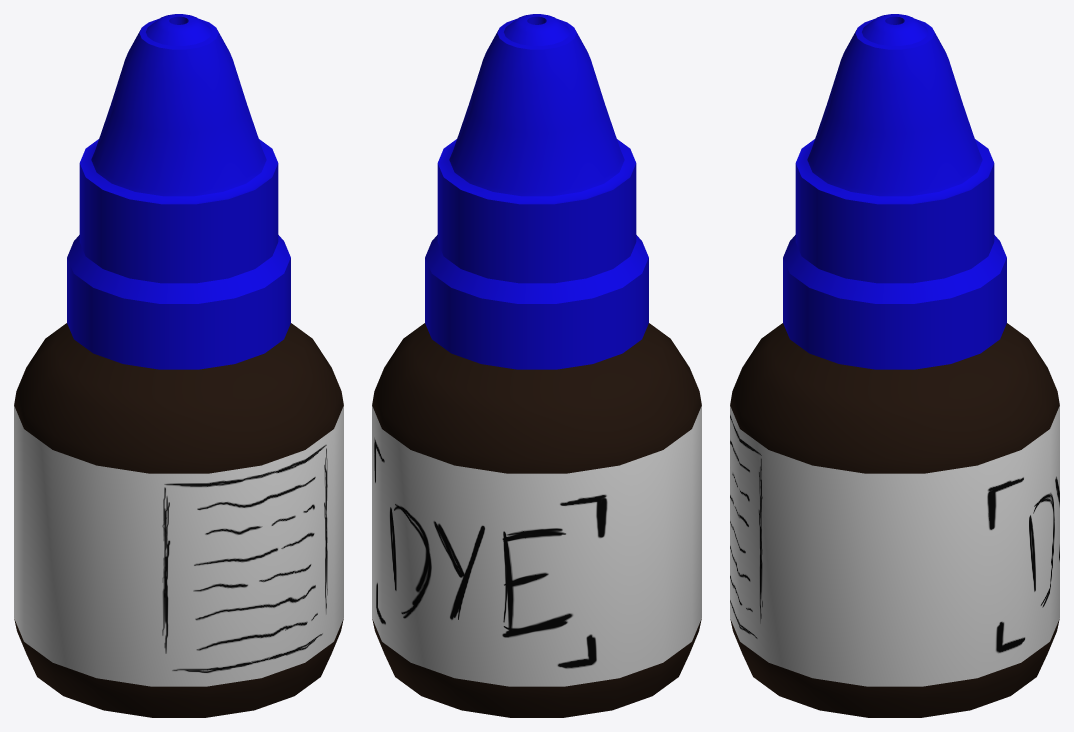
The model's file is coranteAzul2.fbx.
The picture shows the model from 3 angles, left to right: view 1: azimuth 30°, elevation 25°; view 2: azimuth 150°, elevation 25°; view 3: azimuth 270°, elevation 25°; orthographic projection.
Visible parts, largest first — view 1: Corante, Tampa; view 2: Corante, Tampa; view 3: Corante, Tampa.
Part boxes in pixels (x1=…): Corante: x1=14, y1=323, x2=343, y2=717; Tampa: x1=67, y1=14, x2=290, y2=369; Corante: x1=372, y1=323, x2=701, y2=717; Tampa: x1=425, y1=14, x2=648, y2=369; Corante: x1=730, y1=323, x2=1059, y2=717; Tampa: x1=783, y1=14, x2=1006, y2=369.
Size of the model in its own units: 215 by 463 by 218.
